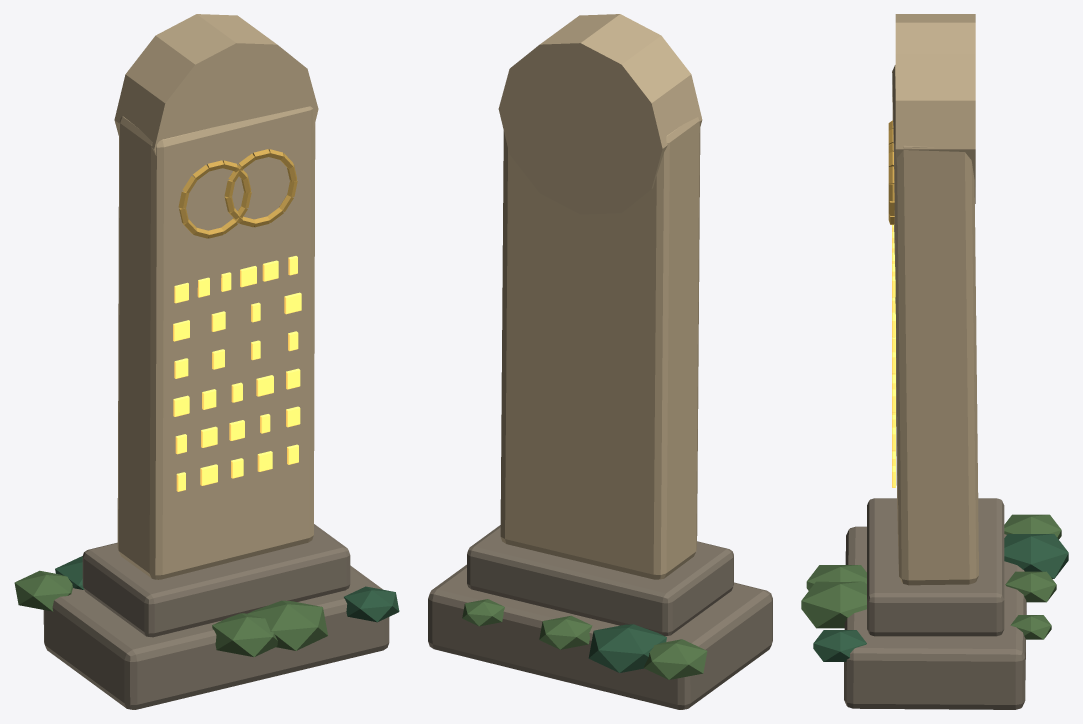
The model's file is stele.glb.
3 views of the same model, side by side, from view 1: azimuth 30°, elevation 25°; view 2: azimuth 150°, elevation 25°; view 3: azimuth 270°, elevation 25° (orthographic).
Parts seen in each view (by area): view 1: stele; view 2: stele; view 3: stele.
Part boxes in pixels (left/top/right/bottom): stele: left=14, top=14, right=399, bottom=709; stele: left=428, top=14, right=772, bottom=709; stele: left=801, top=14, right=1068, bottom=709.
Bounding box in the file's own units: 1.72 × 3.62 × 1.4.
